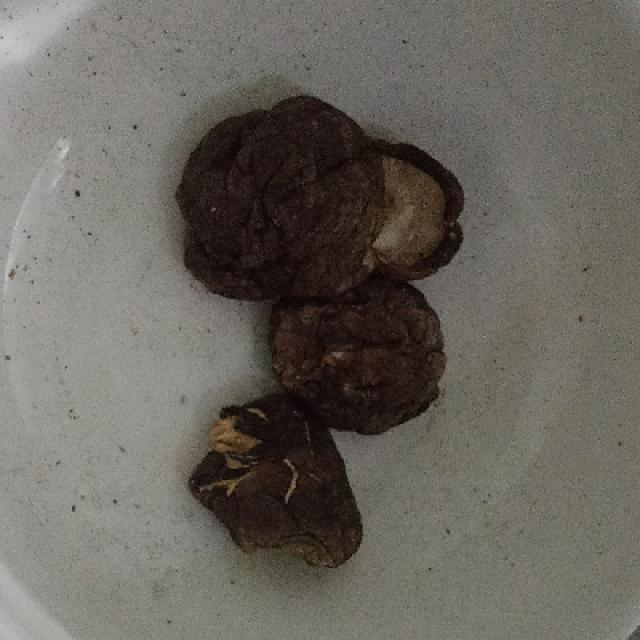Lentinus edodes: (178, 96, 384, 297), (188, 393, 365, 563), (266, 280, 448, 431), (371, 142, 469, 286)
